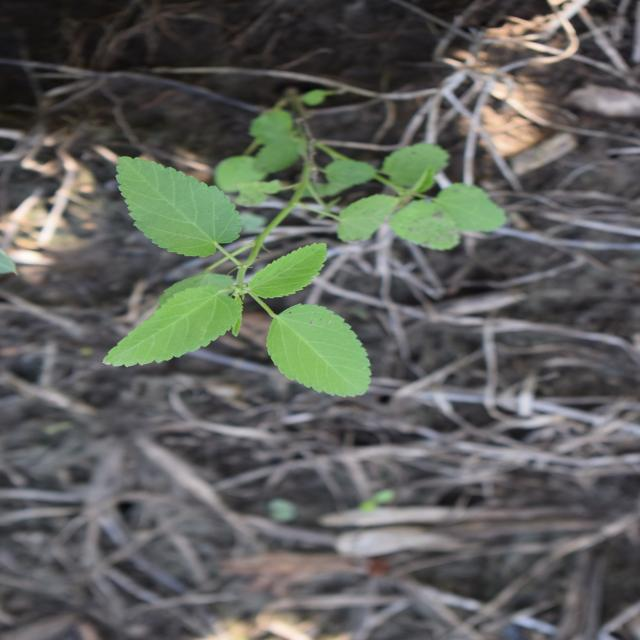PricklySida: (100, 87, 510, 400)
